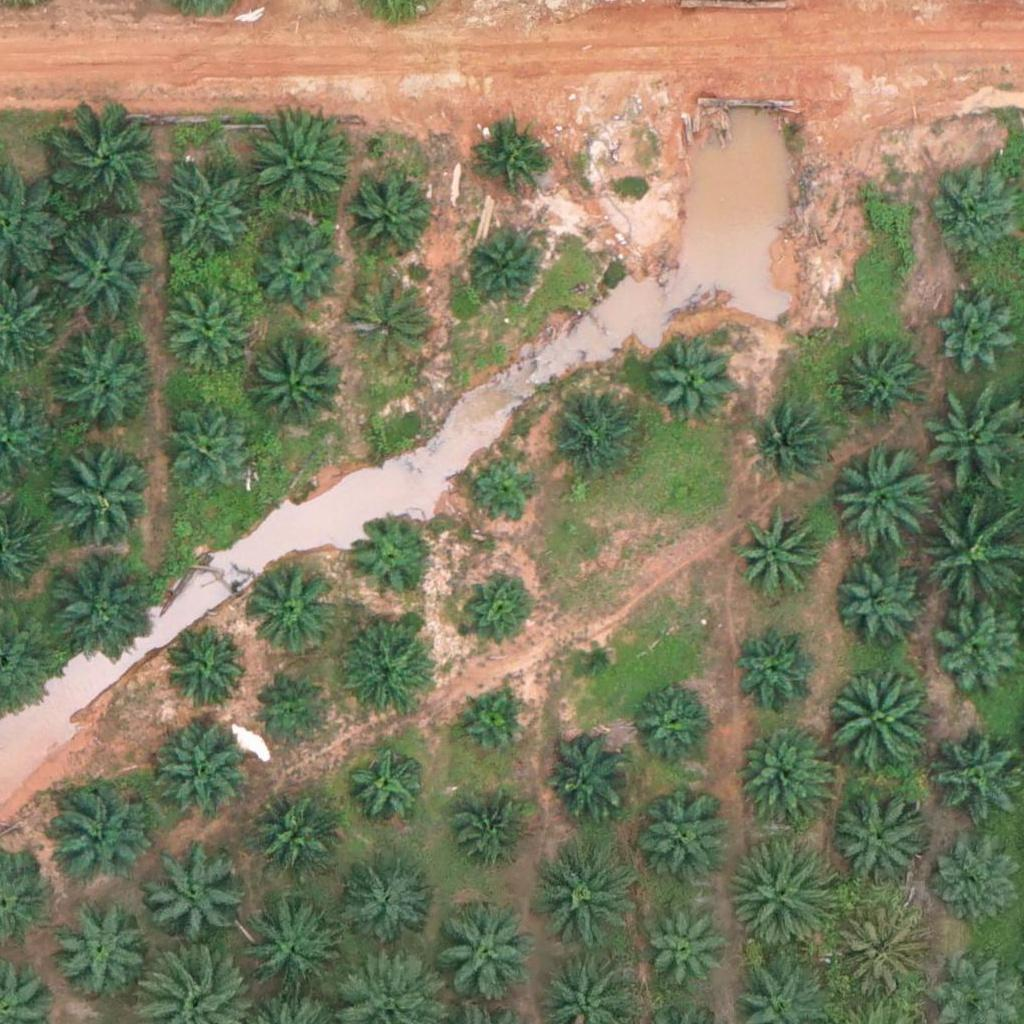Kelapa_Sawit: (45, 321, 158, 435), (241, 108, 354, 222), (49, 216, 162, 329), (37, 433, 150, 546), (48, 104, 160, 217), (41, 556, 153, 669), (729, 839, 841, 952), (159, 157, 259, 258), (923, 386, 1023, 487), (835, 455, 935, 556), (829, 560, 929, 661), (829, 673, 929, 774), (828, 785, 928, 886), (333, 626, 433, 727), (735, 725, 835, 826), (636, 793, 736, 894), (434, 906, 534, 1007), (146, 843, 246, 944), (44, 782, 144, 883), (241, 328, 341, 428), (832, 895, 932, 995), (545, 391, 645, 491), (534, 848, 634, 948), (149, 729, 249, 829), (48, 898, 148, 998), (337, 849, 437, 949), (244, 904, 344, 1004), (469, 112, 557, 200), (342, 281, 430, 369), (163, 283, 251, 371), (166, 403, 254, 491), (256, 222, 344, 310), (346, 170, 434, 258), (932, 607, 1020, 695), (933, 842, 1021, 930), (732, 626, 820, 714), (639, 913, 727, 1001), (545, 731, 633, 819), (738, 510, 825, 599), (464, 228, 551, 316), (921, 164, 1008, 252), (930, 291, 1017, 379), (840, 339, 927, 427), (751, 401, 838, 489), (644, 331, 731, 419), (350, 514, 437, 602), (249, 794, 336, 882), (445, 795, 532, 883), (629, 672, 716, 760), (244, 563, 331, 651), (162, 626, 249, 714), (347, 748, 422, 824), (453, 688, 528, 764), (459, 571, 534, 647), (470, 451, 545, 527), (257, 679, 332, 754), (570, 632, 620, 682)
